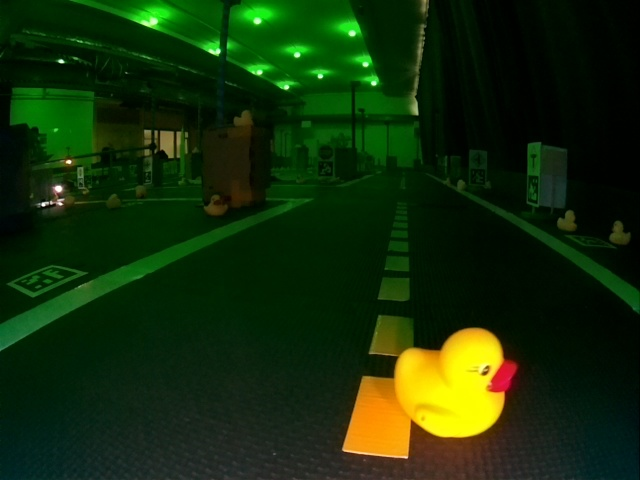Duckie: (397, 332, 516, 435), (204, 196, 228, 213), (611, 220, 628, 243), (557, 210, 575, 230), (233, 110, 249, 123), (106, 193, 118, 205), (134, 186, 146, 194), (456, 181, 463, 190)
Intersection sign: (527, 145, 540, 173), (470, 151, 487, 167)
QR code: (9, 264, 89, 299), (527, 176, 539, 206), (469, 169, 487, 186)
